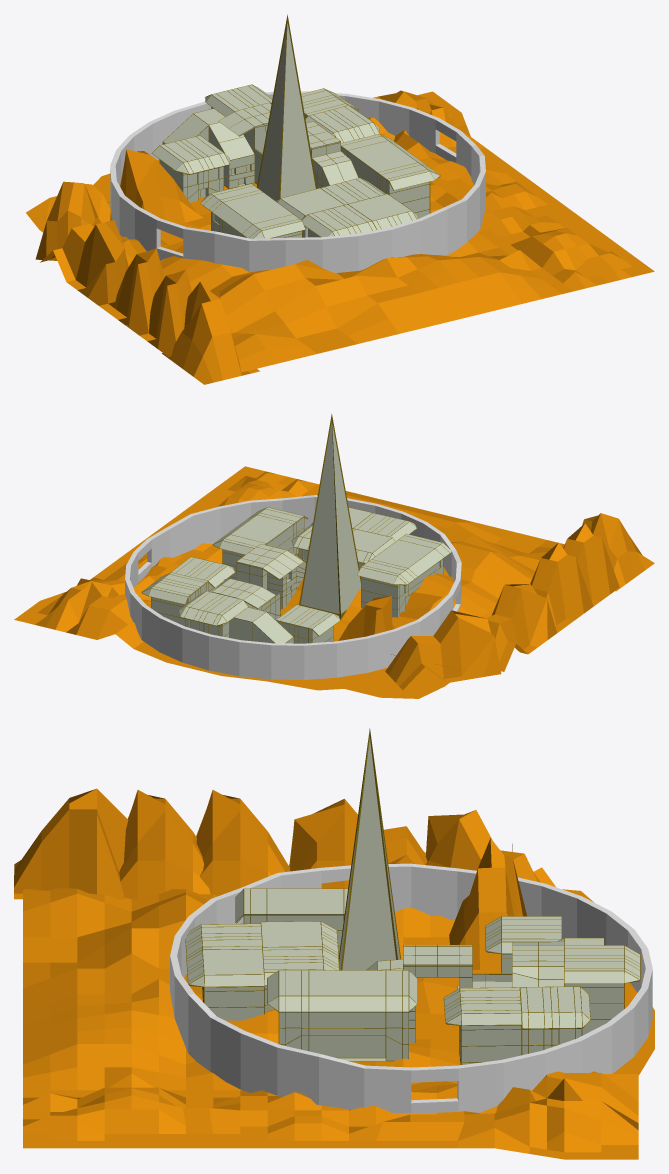
The model's file is Sand DUne.fbx.
3 views of the same model, one above another, from view 1: azimuth 30°, elevation 25°; view 2: azimuth 150°, elevation 25°; view 3: azimuth 270°, elevation 25° (orthographic). The views are drawn at different scales.
Parts seen in each view (by area): view 1: Plane, Cylinder, Cube, Cube.002, Plane.004, Plane.003, Cube.003, Cube.007, Plane.006, Cube.001, Plane.005, Plane.001 (+8 smaller); view 2: Plane, Cylinder, Cube.002, Cube, Plane.005, Cube.007, Plane.003, Plane.001, Cube.003, Plane.002, Plane.004, Cube.009 (+7 smaller); view 3: Plane, Cylinder, Cube.003, Plane.004, Cube.002, Plane.002, Cube, Plane.001, Plane.003, Cube.004, Plane.006, Cube.011 (+8 smaller).
Boxes of the visible parts, bbox=[...] form: Plane: bbox=[26, 90, 654, 372]; Cylinder: bbox=[110, 91, 485, 272]; Cube: bbox=[108, 102, 358, 202]; Cube.002: bbox=[257, 14, 317, 200]; Plane.004: bbox=[162, 281, 259, 384]; Plane.003: bbox=[40, 220, 133, 305]; Cube.003: bbox=[341, 134, 440, 218]; Cube.007: bbox=[200, 183, 305, 238]; Plane.006: bbox=[120, 149, 203, 224]; Cube.001: bbox=[151, 135, 229, 202]; Plane.005: bbox=[35, 181, 111, 260]; Plane.001: bbox=[99, 248, 164, 335]; Plane: bbox=[14, 466, 564, 698]; Cylinder: bbox=[125, 495, 461, 679]; Cube.002: bbox=[299, 413, 360, 619]; Cube: bbox=[212, 544, 443, 665]; Plane.005: bbox=[385, 610, 501, 690]; Cube.007: bbox=[357, 533, 451, 617]; Plane.003: bbox=[486, 584, 556, 671]; Plane.001: bbox=[530, 542, 593, 632]; Cube.003: bbox=[212, 507, 308, 579]; Plane.002: bbox=[563, 523, 619, 615]; Plane.004: bbox=[582, 513, 654, 591]; Cube.009: bbox=[178, 591, 248, 637]; Plane: bbox=[23, 888, 654, 1159]; Cylinder: bbox=[170, 863, 652, 1113]; Cube.003: bbox=[267, 970, 417, 1061]; Plane.004: bbox=[14, 788, 128, 899]; Cube.002: bbox=[338, 728, 400, 970]; Plane.002: bbox=[119, 790, 210, 899]; Cube: bbox=[366, 844, 604, 1053]; Plane.001: bbox=[196, 790, 289, 896]; Plane.003: bbox=[289, 799, 427, 888]; Cube.004: bbox=[443, 987, 521, 1064]; Plane.006: bbox=[449, 838, 526, 969]; Cube.011: bbox=[186, 948, 264, 1020].
Size of the model in its own units: 86360 by 39216 by 79243.
